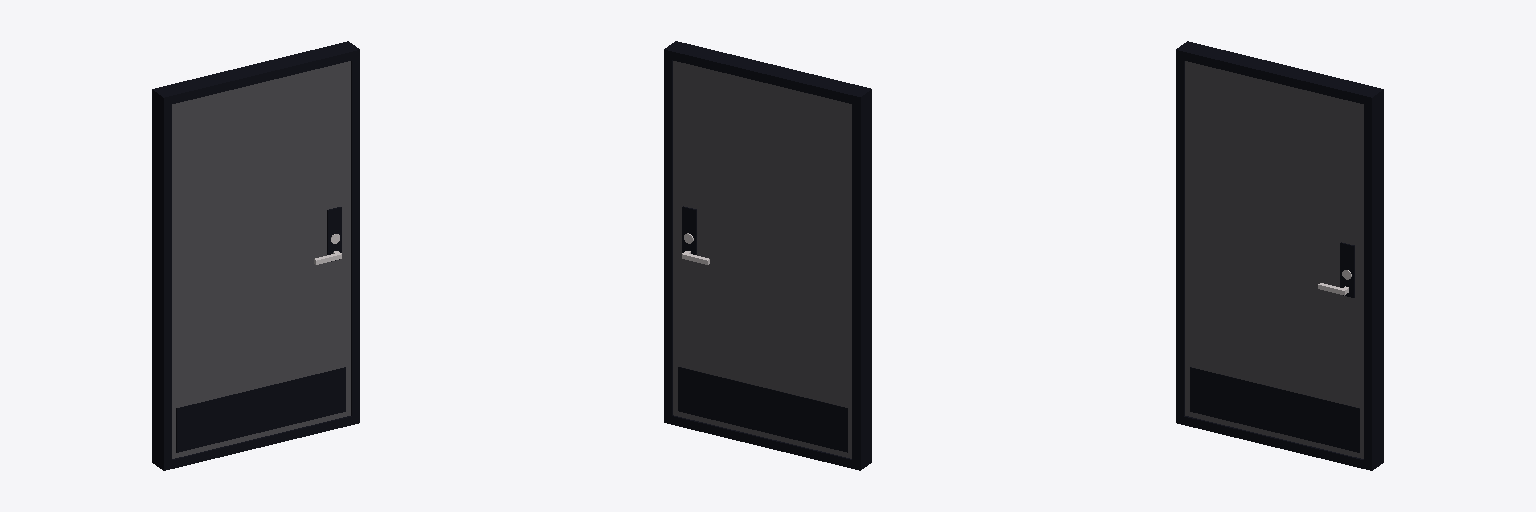
The model's file is doorbycoolant.obj.
The picture shows the model from 3 angles: view 1: azimuth 30°, elevation 25°; view 2: azimuth 150°, elevation 25°; view 3: azimuth 330°, elevation 25°; orthographic projection.
Parts seen in each view (by area): view 1: Base1, Union2; view 2: Base1, Union2; view 3: Base1, Union2.
Boxes of the visible parts, <box> form: Base1: <box>172,61,350,458</box>; Union2: <box>152,41,359,470</box>; Base1: <box>673,61,851,458</box>; Union2: <box>664,41,871,470</box>; Base1: <box>1185,61,1363,458</box>; Union2: <box>1176,41,1383,470</box>.
Size of the model in its own units: 4.73 by 8.58 by 0.9137.